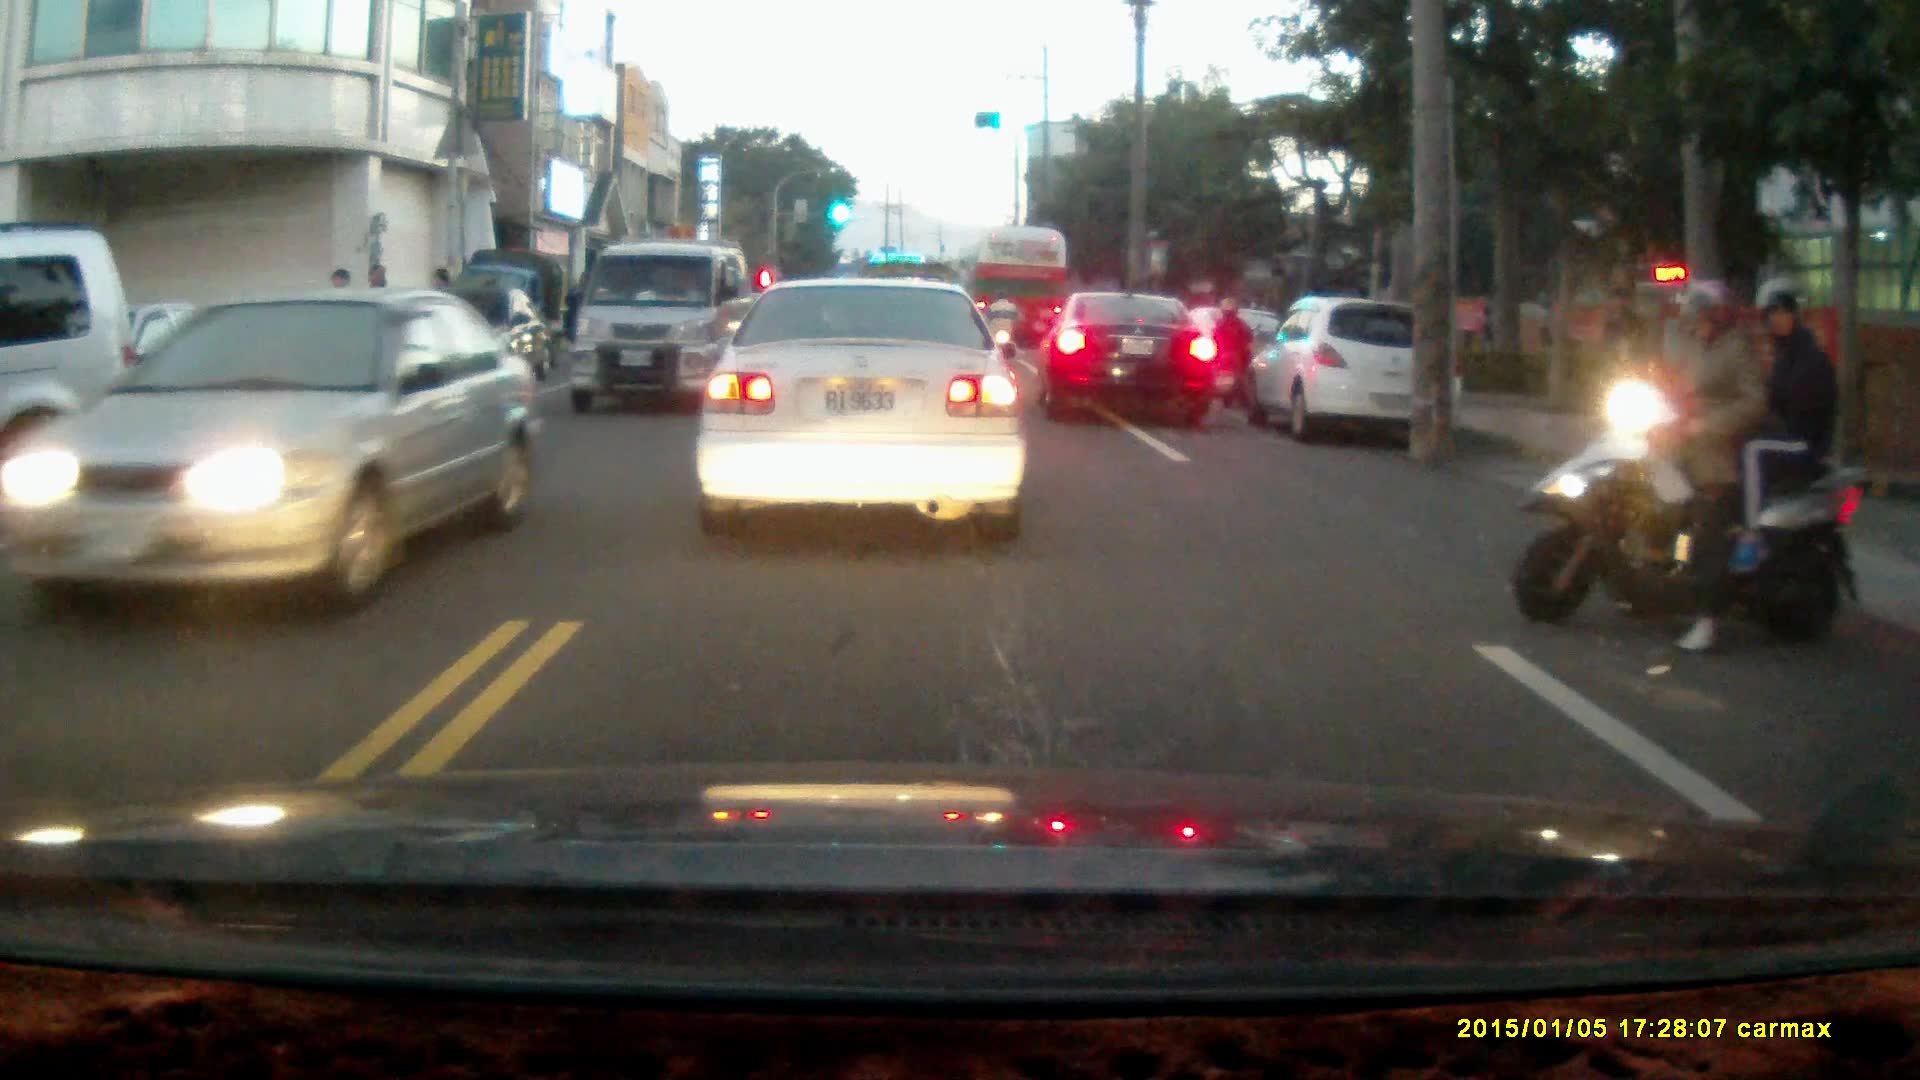pedestrian: (1599, 284, 1651, 412)
rider: (1515, 277, 1858, 662), (1207, 294, 1257, 409), (982, 289, 1021, 367)
vehicle: (10, 290, 532, 614), (691, 275, 1030, 547), (11, 300, 268, 471), (1, 226, 147, 519), (567, 240, 757, 416), (1244, 295, 1465, 442), (1037, 295, 1224, 430), (971, 224, 1072, 364)
